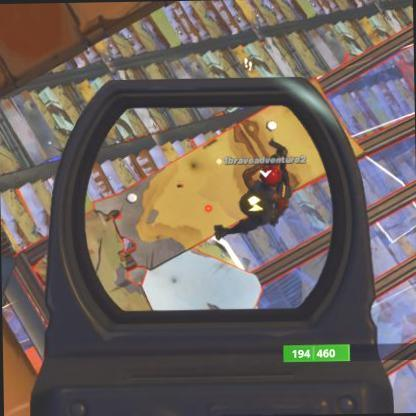person: (237, 156, 294, 248)
